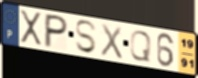6: (156, 32, 176, 68)
P: (42, 12, 70, 49)
Q: (129, 30, 153, 64)
S: (74, 19, 99, 55)
X: (18, 9, 44, 47), (100, 22, 124, 61)
